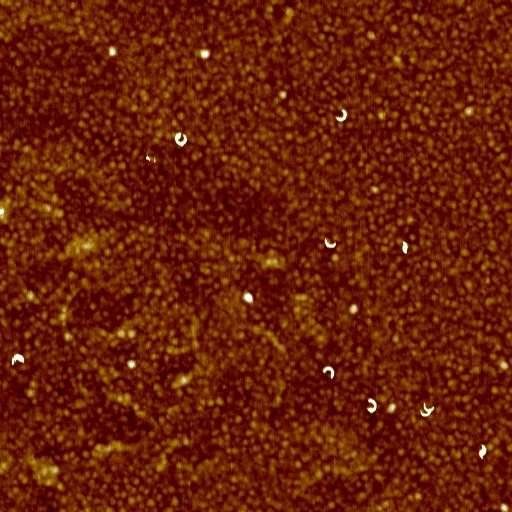-1: (399, 237, 411, 256), (242, 292, 256, 305), (477, 444, 488, 457), (106, 44, 117, 57), (199, 50, 210, 60)
2/4: (364, 394, 379, 414), (332, 106, 348, 124), (319, 366, 338, 380), (322, 236, 340, 249), (10, 353, 27, 366), (421, 398, 438, 410), (417, 410, 435, 419)
3/4: (171, 133, 189, 149)
